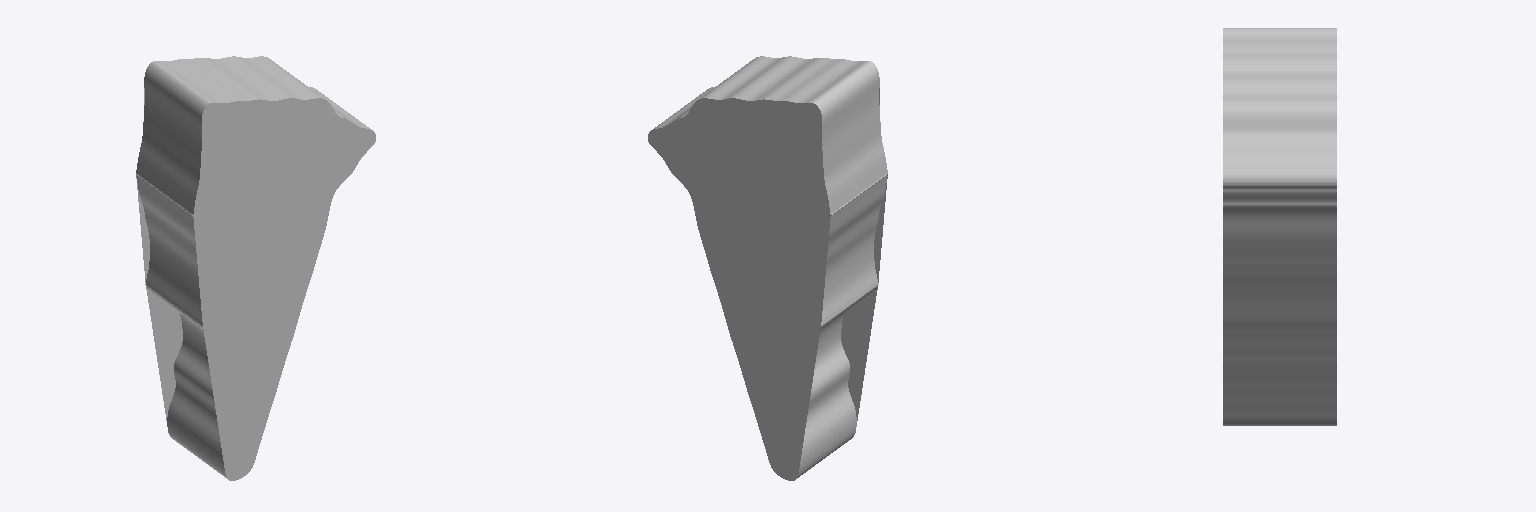
The picture shows the model from 3 angles: view 1: azimuth 30°, elevation 25°; view 2: azimuth 150°, elevation 25°; view 3: azimuth 270°, elevation 25°; orthographic projection.
Visible parts, largest first — view 1: 平面; view 2: 平面; view 3: 平面.
Boxes of the visible parts, x1,y1,x2,y2 form: 平面: [136, 56, 375, 480]; 平面: [648, 56, 887, 480]; 平面: [1223, 28, 1336, 425].
Bounding box in the file's own units: 0.37 × 0.74 × 0.2.